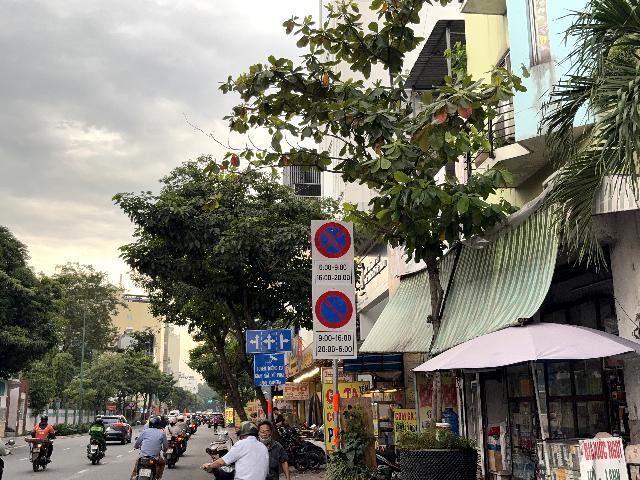cam-do-xe: (315, 290, 353, 329)
cam-dung-va-do-xe: (315, 222, 351, 258)
